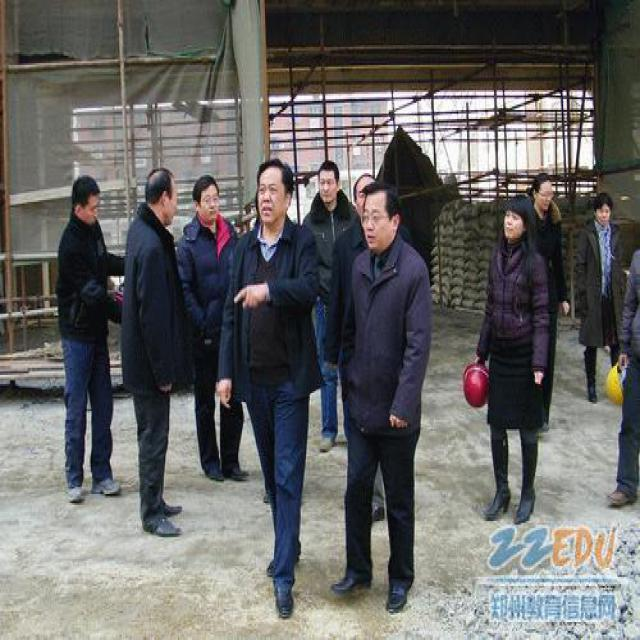head: (252, 154, 294, 232), (361, 178, 400, 250), (142, 163, 179, 228), (499, 194, 536, 250), (67, 171, 101, 227), (189, 172, 221, 225), (316, 156, 340, 207), (530, 169, 557, 214), (353, 171, 376, 219), (588, 185, 613, 228)
person: (222, 156, 327, 634), (335, 178, 447, 624), (456, 190, 557, 530), (40, 168, 129, 511), (122, 161, 195, 553), (178, 173, 254, 495), (296, 153, 363, 457), (569, 183, 634, 422)
